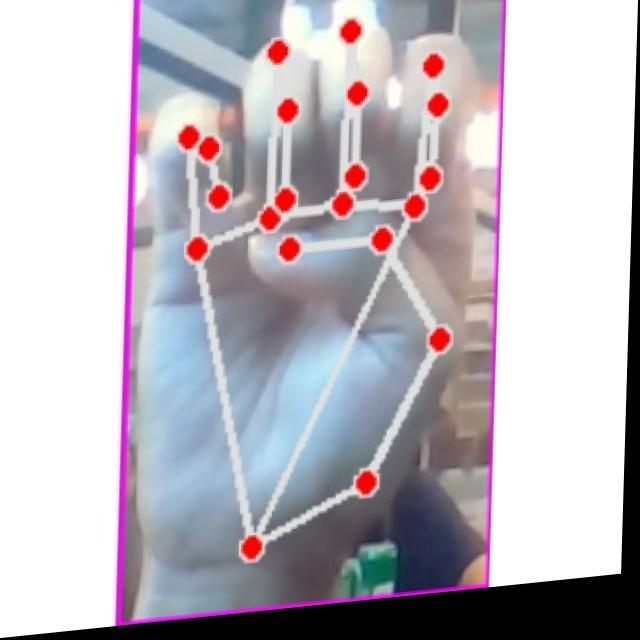E: (134, 13, 483, 592)
